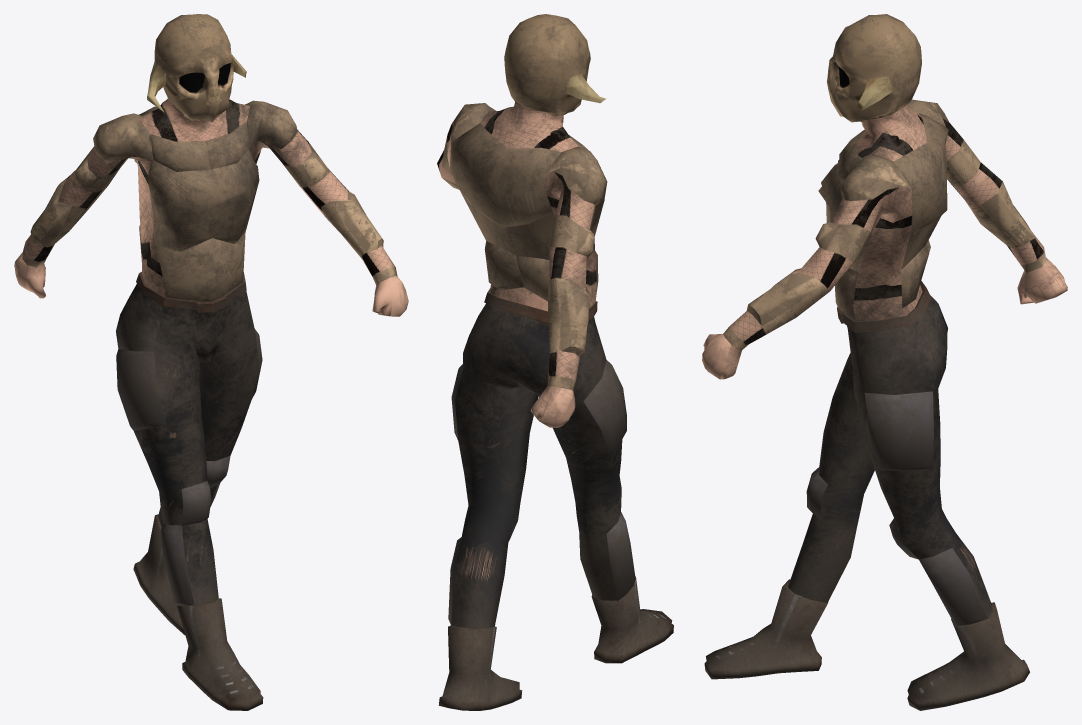
The model's file is Anim_andar_npc1.0025.obj.
3 views of the same model, side by side, from view 1: azimuth 30°, elevation 25°; view 2: azimuth 150°, elevation 25°; view 3: azimuth 270°, elevation 25° (orthographic). The views are drawn at different scales.
Parts seen in each view (by area): view 1: Anim_andar_npc1; view 2: Anim_andar_npc1; view 3: Anim_andar_npc1.
Part boxes in pixels (x1,y1,x2,y2): Anim_andar_npc1: (14,14,408,710); Anim_andar_npc1: (437,14,673,710); Anim_andar_npc1: (702,14,1067,710).
Bounding box in the file's own units: 3.8 × 9.65 × 4.75.
